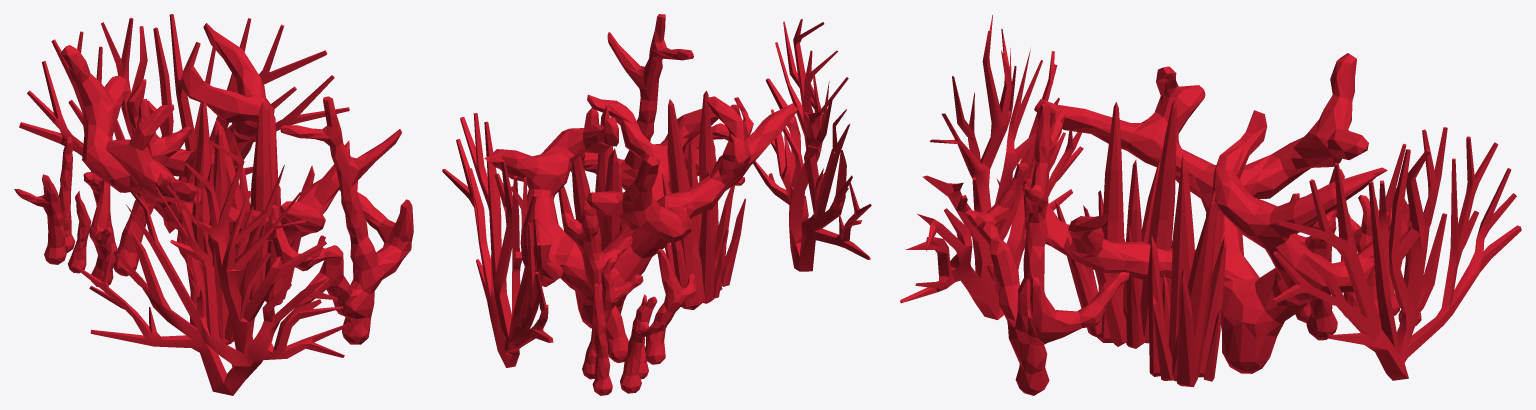
The model's file is coral3.glb.
3 renders of one model, left to right at view 1: azimuth 30°, elevation 25°; view 2: azimuth 150°, elevation 25°; view 3: azimuth 270°, elevation 25°, orthographic. The views are drawn at different scales.
Visible parts, largest first — view 1: Coral.004_5, Coral.001_1, Coral.002_2, Coral.006_4, Coral.003_3, Coral.005_6, Coral_7; view 2: Coral.001_1, Coral.006_4, Coral.004_5, Coral.003_3, Coral.005_6, Coral.002_2, Coral_7; view 3: Coral.001_1, Coral.006_4, Coral.004_5, Coral.002_2, Coral_7, Coral.005_6, Coral.003_3.
Part boxes in pixels (x1,y1,x2,y2): Coral.004_5: (72, 139, 357, 395); Coral.001_1: (61, 23, 349, 262); Coral.002_2: (269, 96, 413, 344); Coral.006_4: (19, 14, 349, 233); Coral.003_3: (14, 98, 191, 287); Coral.005_6: (179, 100, 266, 344); Coral_7: (215, 102, 314, 305); Coral.001_1: (484, 94, 797, 328); Coral.006_4: (442, 113, 553, 367); Coral.004_5: (753, 19, 871, 271); Coral.003_3: (561, 201, 695, 395); Coral.005_6: (662, 90, 745, 309); Coral.002_2: (570, 14, 753, 193); Coral_7: (558, 105, 622, 251); Coral.001_1: (1023, 53, 1409, 373); Coral.006_4: (1272, 127, 1521, 380); Coral.004_5: (900, 15, 1083, 319); Coral.002_2: (956, 103, 1129, 395); Coral_7: (1148, 155, 1226, 386); Coral.005_6: (1055, 100, 1177, 348); Coral.003_3: (1290, 169, 1421, 340).
Size of the model in its own units: 6.81 by 4.71 by 9.06.
